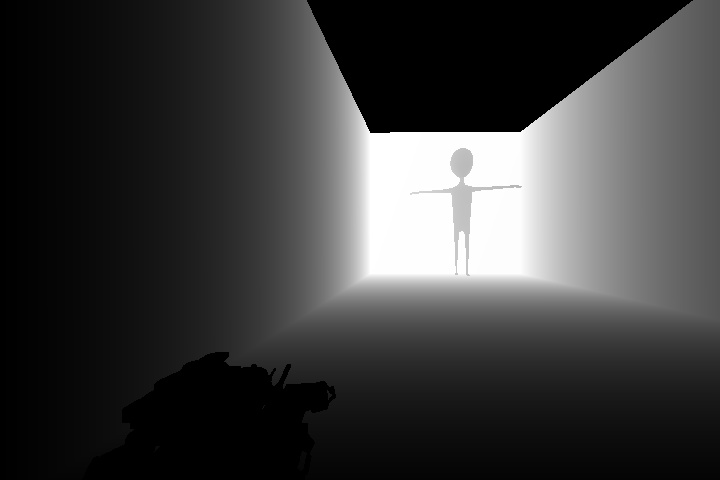alien: (407, 146, 524, 277)
